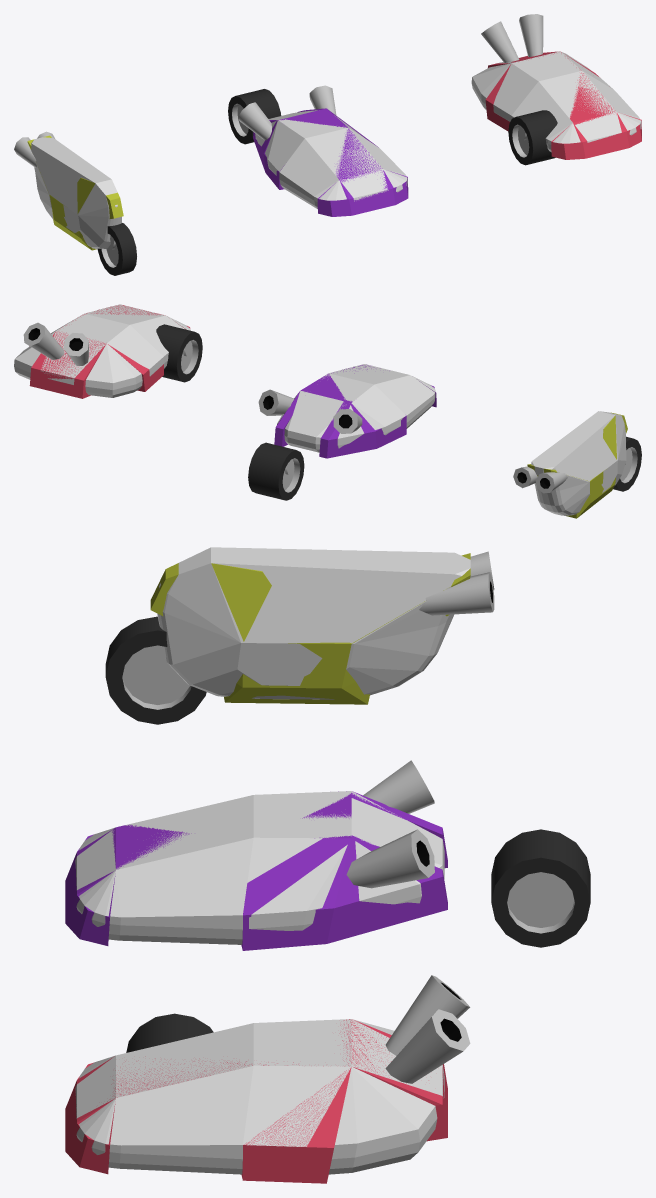
Rendered from Karts.fbx.
The picture shows the model from 3 angles, top to bottom: view 1: azimuth 30°, elevation 25°; view 2: azimuth 150°, elevation 25°; view 3: azimuth 270°, elevation 25°; orthographic projection. The views are drawn at different scales.
Visible parts, largest first — view 1: KartCol, 3WheelerCol, 3Wheeler, BikeCol, Kart, KartWheel, Bike, BikeWheel, 3WheelerWheel; view 2: KartCol, 3WheelerCol, BikeCol, Kart, 3Wheeler, 3WheelerWheel, Bike, KartWheel, BikeWheel; view 3: KartCol, BikeCol, 3WheelerCol, 3Wheeler, Kart, Bike, 3WheelerWheel, BikeWheel, KartWheel.
Boxes of the visible parts, x1=… form: KartCol: x1=471, y1=51, x2=641, y2=152; 3WheelerCol: x1=255, y1=110, x2=407, y2=209; 3Wheeler: x1=238, y1=85, x2=408, y2=216; BikeCol: x1=31, y1=137, x2=121, y2=249; Kart: x1=481, y1=14, x2=641, y2=159; KartWheel: x1=508, y1=110, x2=557, y2=165; Bike: x1=14, y1=131, x2=123, y2=250; BikeWheel: x1=97, y1=223, x2=136, y2=275; 3WheelerWheel: x1=228, y1=89, x2=281, y2=144; KartCol: x1=14, y1=304, x2=190, y2=397; 3WheelerCol: x1=277, y1=364, x2=435, y2=452; BikeCol: x1=531, y1=411, x2=626, y2=515; Kart: x1=23, y1=305, x2=190, y2=398; 3Wheeler: x1=258, y1=364, x2=436, y2=458; 3WheelerWheel: x1=248, y1=442, x2=304, y2=500; Bike: x1=513, y1=412, x2=627, y2=518; KartWheel: x1=156, y1=324, x2=202, y2=382; BikeWheel: x1=613, y1=436, x2=641, y2=491; KartCol: x1=75, y1=1019, x2=444, y2=1174; BikeCol: x1=157, y1=547, x2=470, y2=699; 3WheelerCol: x1=75, y1=791, x2=444, y2=944; 3Wheeler: x1=65, y1=760, x2=447, y2=950; Kart: x1=65, y1=975, x2=470, y2=1183; Bike: x1=150, y1=551, x2=494, y2=704; 3WheelerWheel: x1=491, y1=829, x2=590, y2=947; BikeWheel: x1=105, y1=616, x2=206, y2=724; KartWheel: x1=126, y1=1013, x2=213, y2=1052.
Size of the model in its own units: 11.6 by 1.82 by 4.87.
